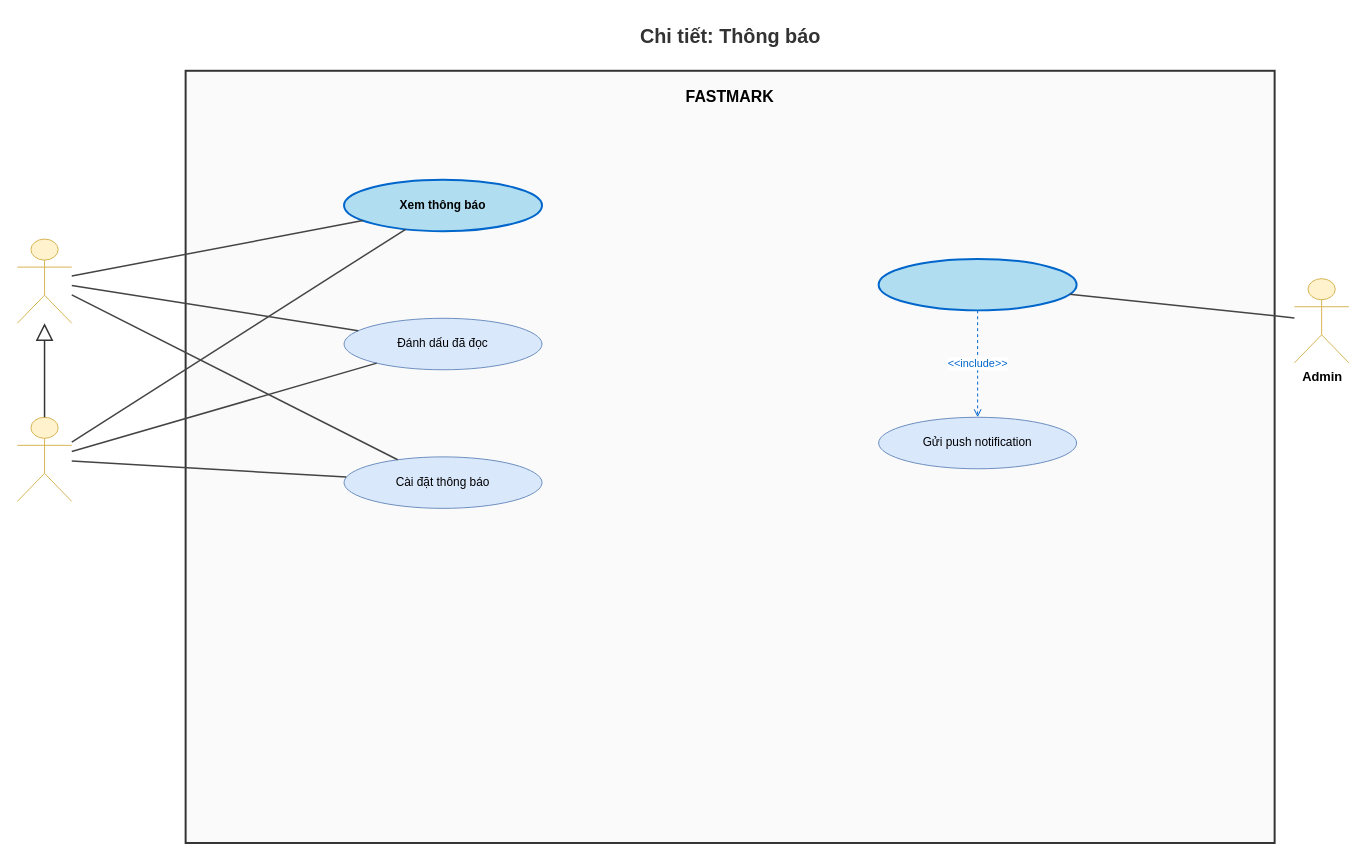
The diagram is 1366 pixels wide and 860 high, and some of its shapes have lost their labels. Here are the shapes that lost their labels. From the top down, the centre of each, then its label:
At [44,280]: "User".
At [977,284]: "Gửi thông báo hệ thống".
At [44,458]: "Seller".
